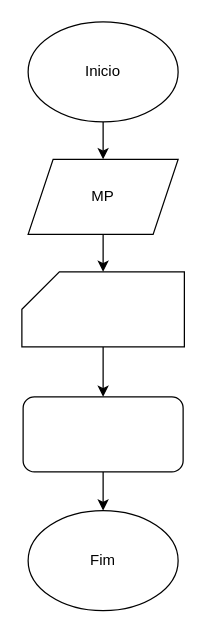
This 206x633 diagram has some shape labels left out. Each missing label, with the box of its shape:
Ler, C1, C2, C3: (21, 271, 184, 347)
MP = (C1 + C2 + C3)/3: (22, 396, 183, 472)
